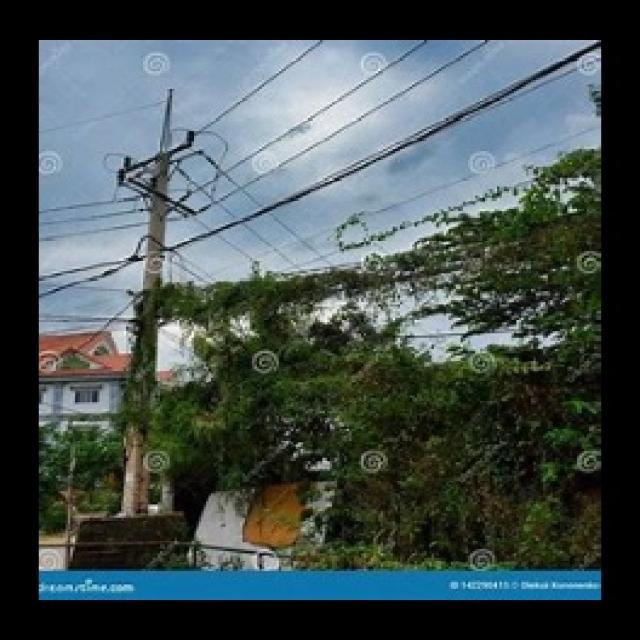critical vegetation: (134, 242, 601, 363)
